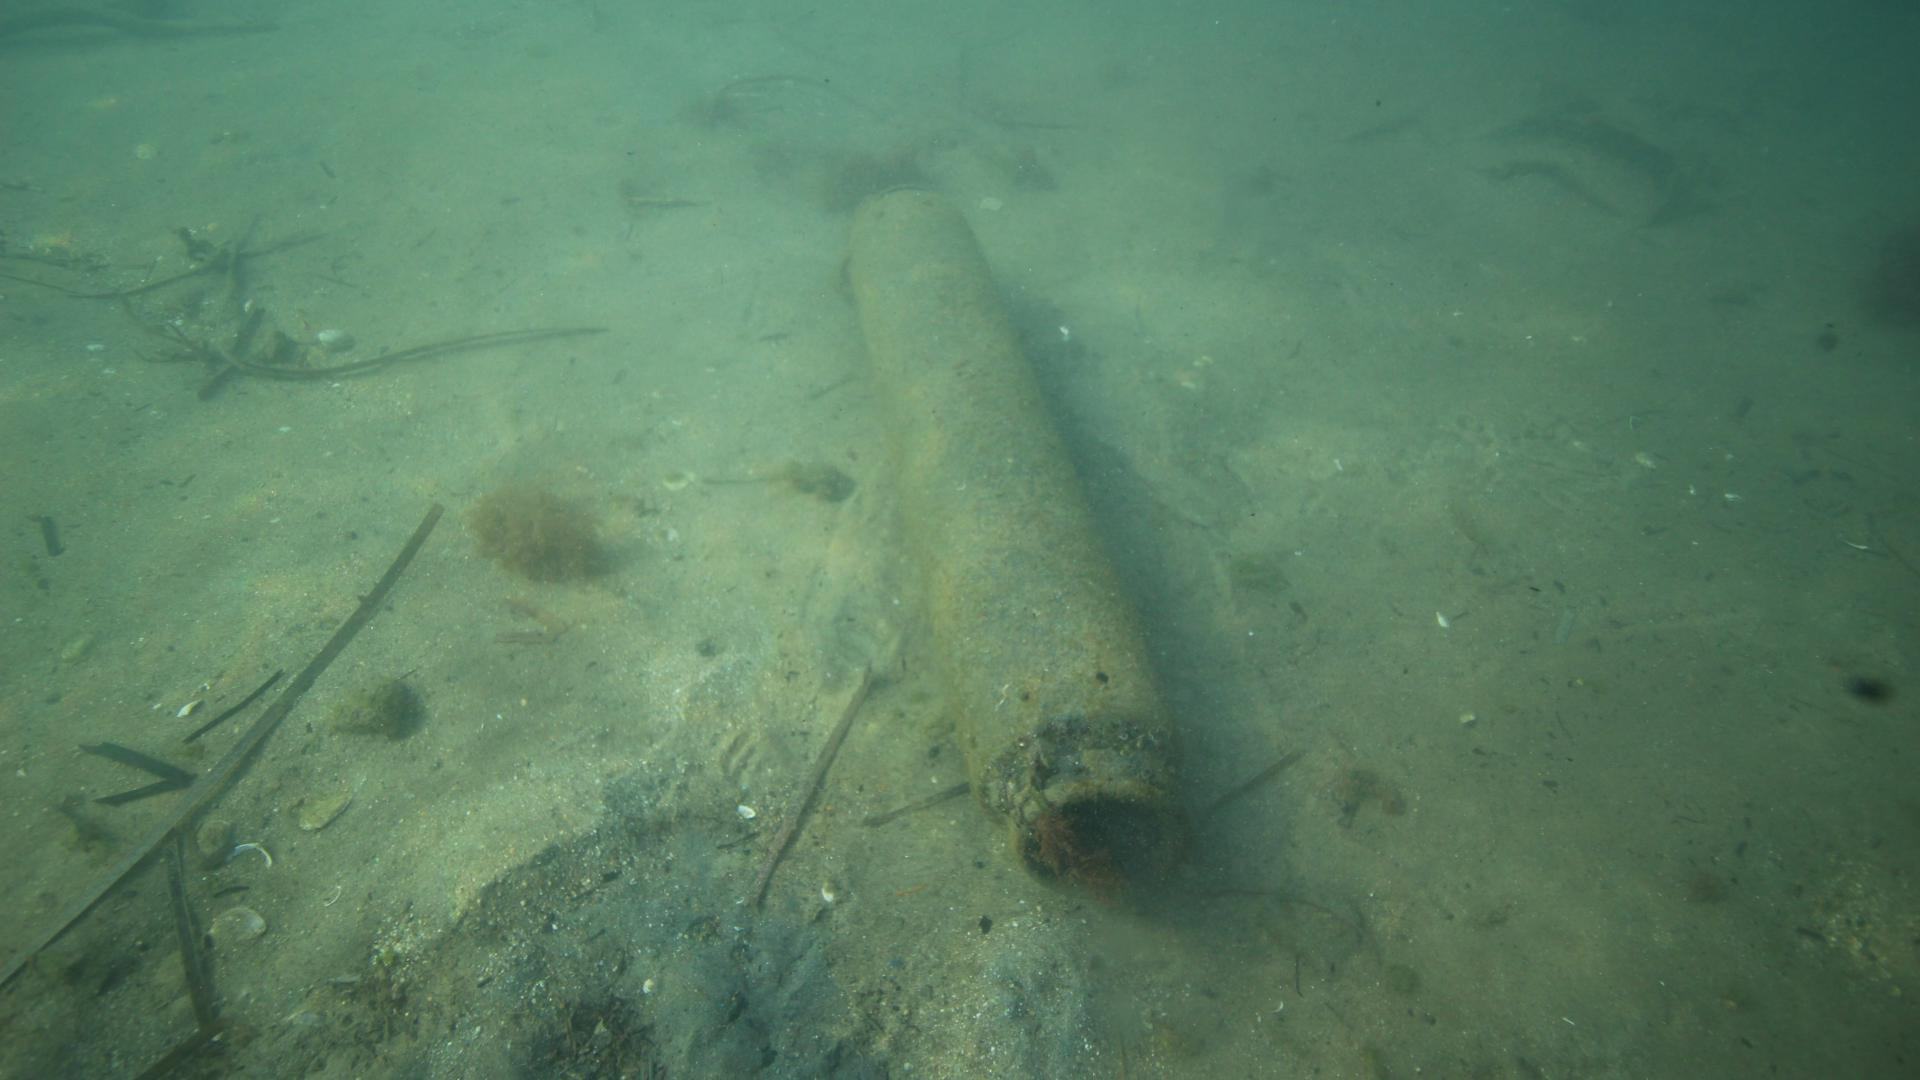eel fish trap: (840, 179, 1191, 899)
